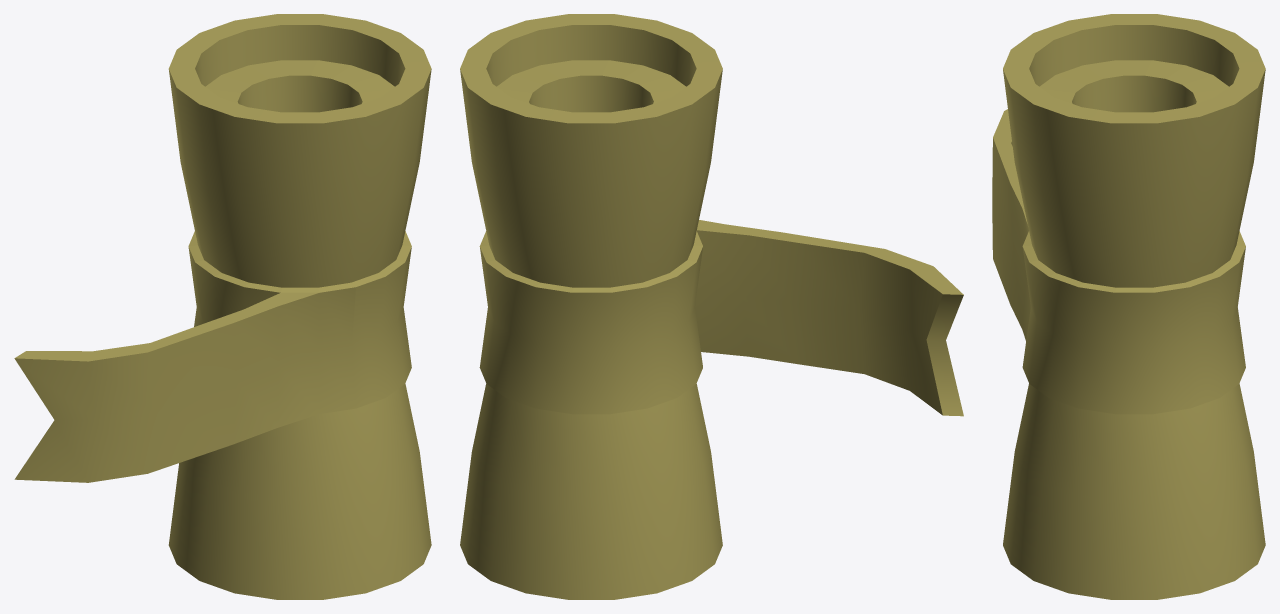
Rendered from mapItemMesh_V2.fbx.
3 renders of one model, left to right at view 1: azimuth 30°, elevation 25°; view 2: azimuth 150°, elevation 25°; view 3: azimuth 270°, elevation 25°, orthographic.
Visible parts, largest first — view 1: Map; view 2: Map; view 3: Map.
Part boxes in pixels (x1,y1,x2,y2): Map: [14, 14, 431, 599]; Map: [460, 14, 963, 599]; Map: [992, 14, 1265, 599].
Size of the model in its own units: 96.72 by 99.84 by 51.92.
